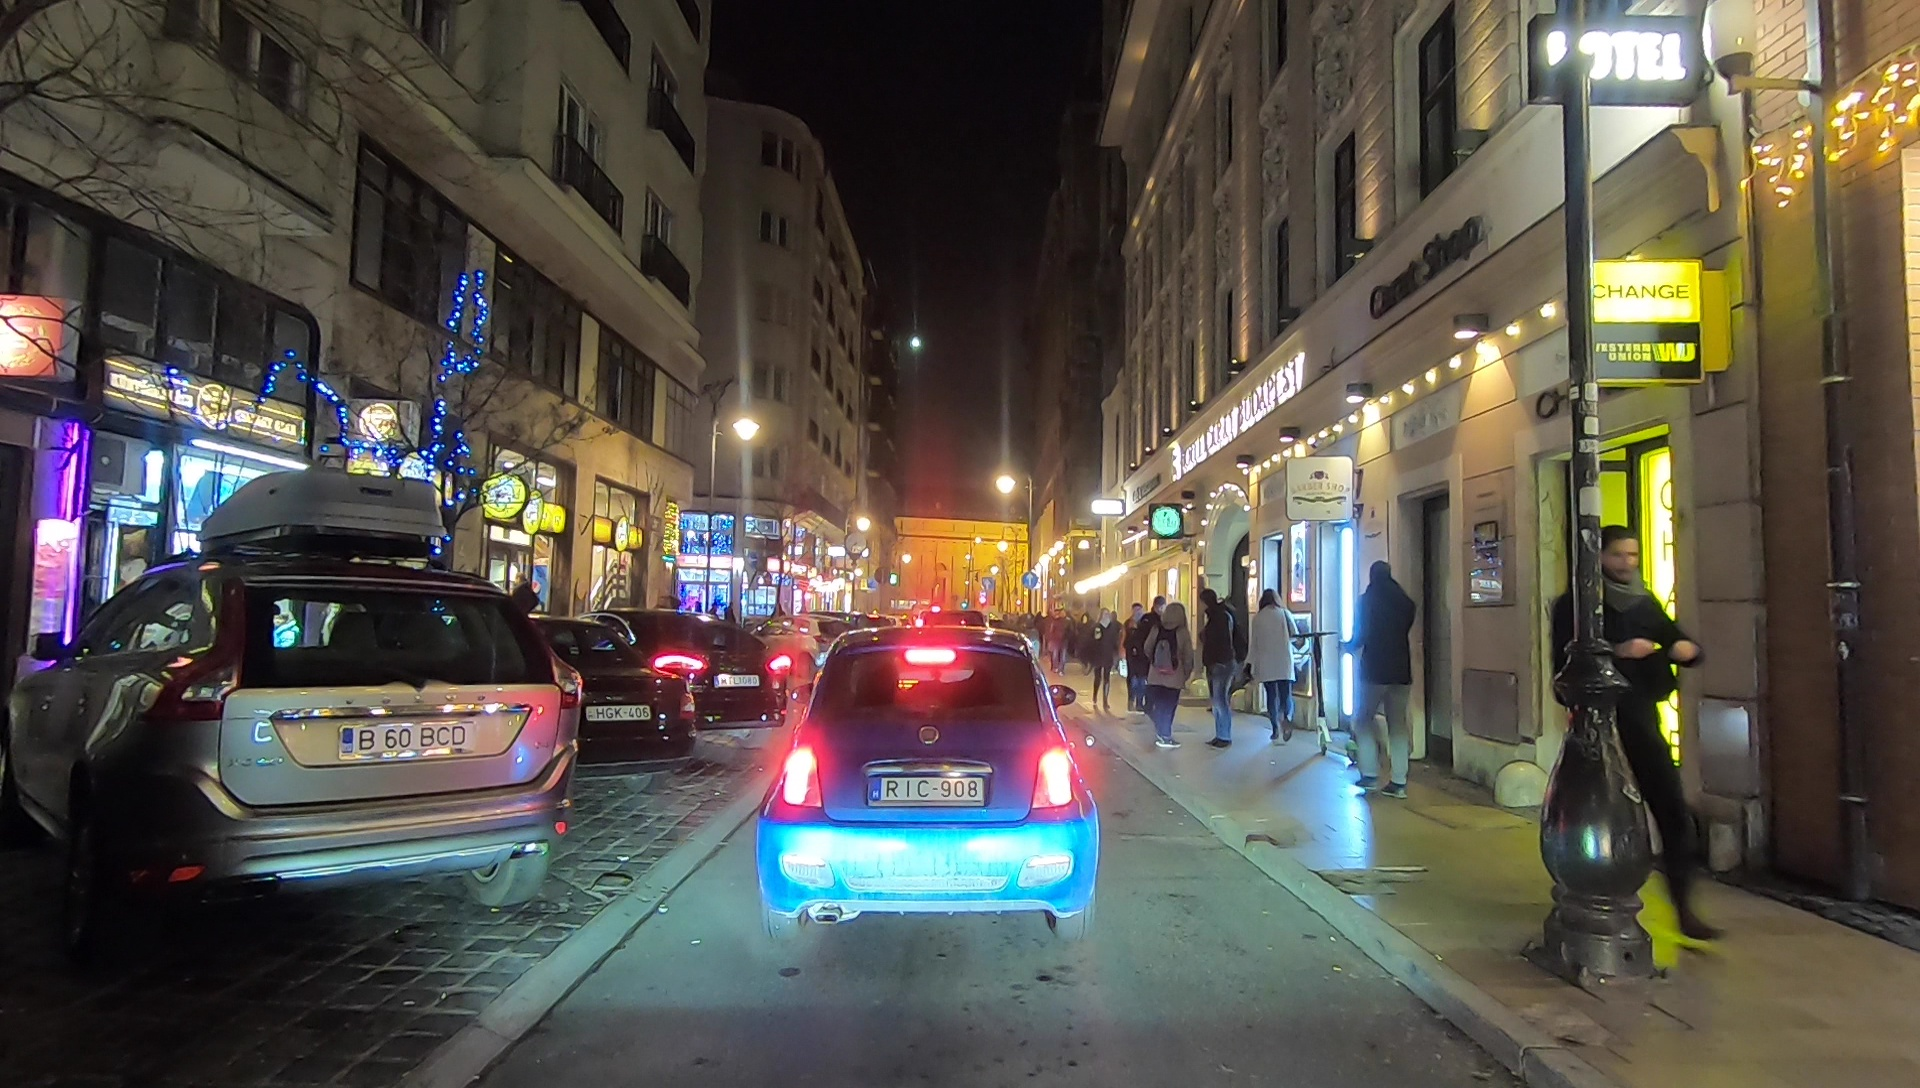person: (1549, 524, 1725, 943), (1341, 561, 1419, 797), (1249, 587, 1298, 747), (1143, 602, 1193, 750), (1197, 590, 1239, 749), (1086, 606, 1121, 710), (1123, 601, 1153, 718), (509, 573, 539, 667), (1051, 608, 1068, 675)
